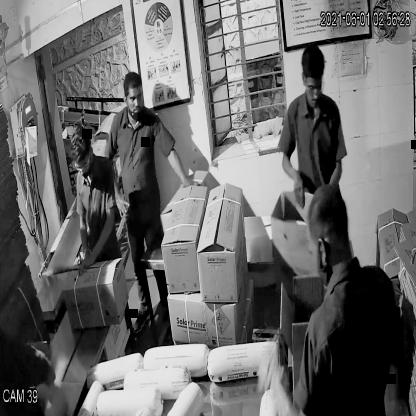goggles: (67, 150, 97, 178)
